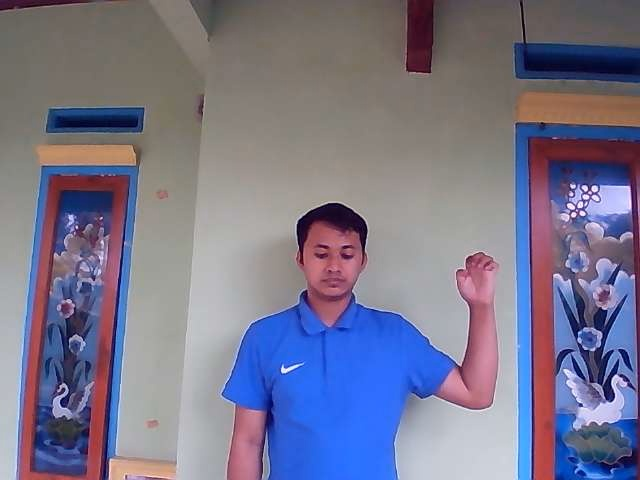E: (454, 250, 501, 306)
